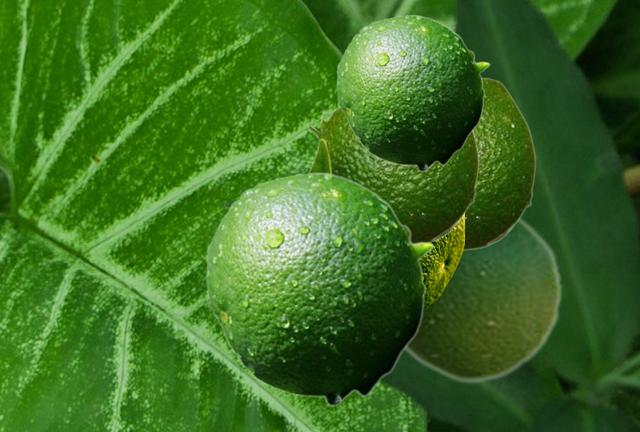dalandan: (205, 171, 433, 406), (404, 217, 562, 384), (336, 14, 489, 171), (307, 107, 478, 242), (464, 77, 535, 251), (420, 218, 463, 309)
